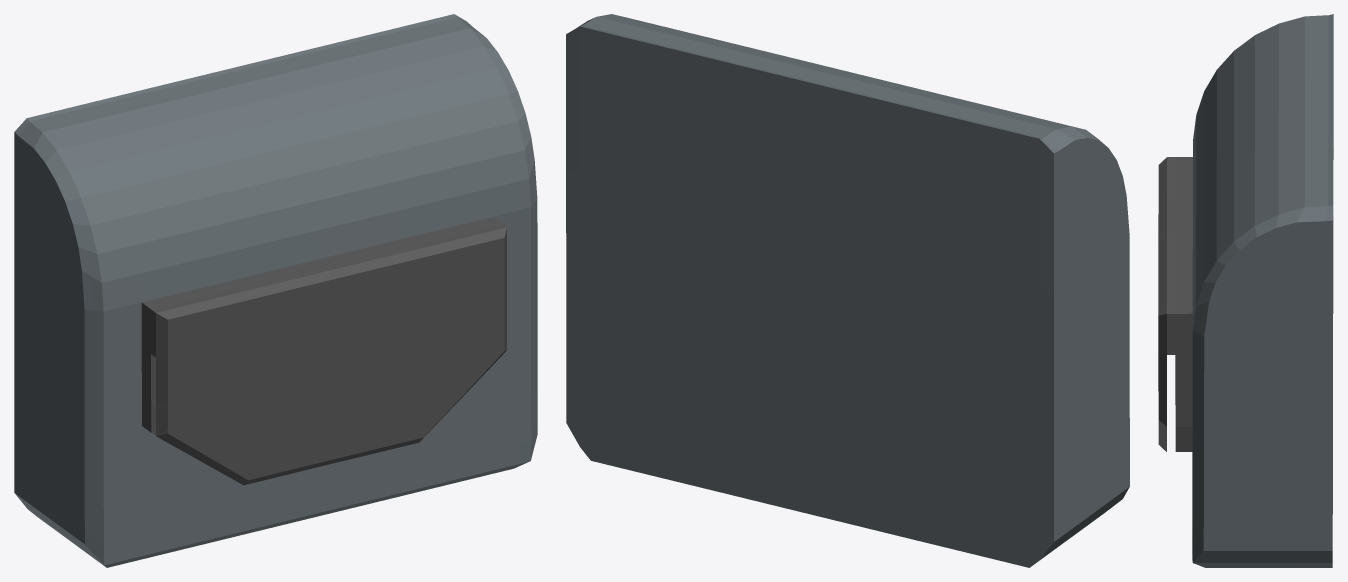
Rendered from Card Scanner Model.fbx.
The picture shows the model from 3 angles, left to right: view 1: azimuth 30°, elevation 25°; view 2: azimuth 150°, elevation 25°; view 3: azimuth 270°, elevation 25°; orthographic projection. The views are drawn at different scales.
Visible parts, largest first — view 1: Cylinder.002; view 2: Cylinder.002; view 3: Cylinder.002.
Part boxes in pixels (x1,y1,x2,y2): Cylinder.002: [14, 14, 537, 567]; Cylinder.002: [566, 14, 1129, 567]; Cylinder.002: [1158, 14, 1333, 567].
Size of the model in its own units: 347 by 294 by 127.
1 material, 1 textured.
